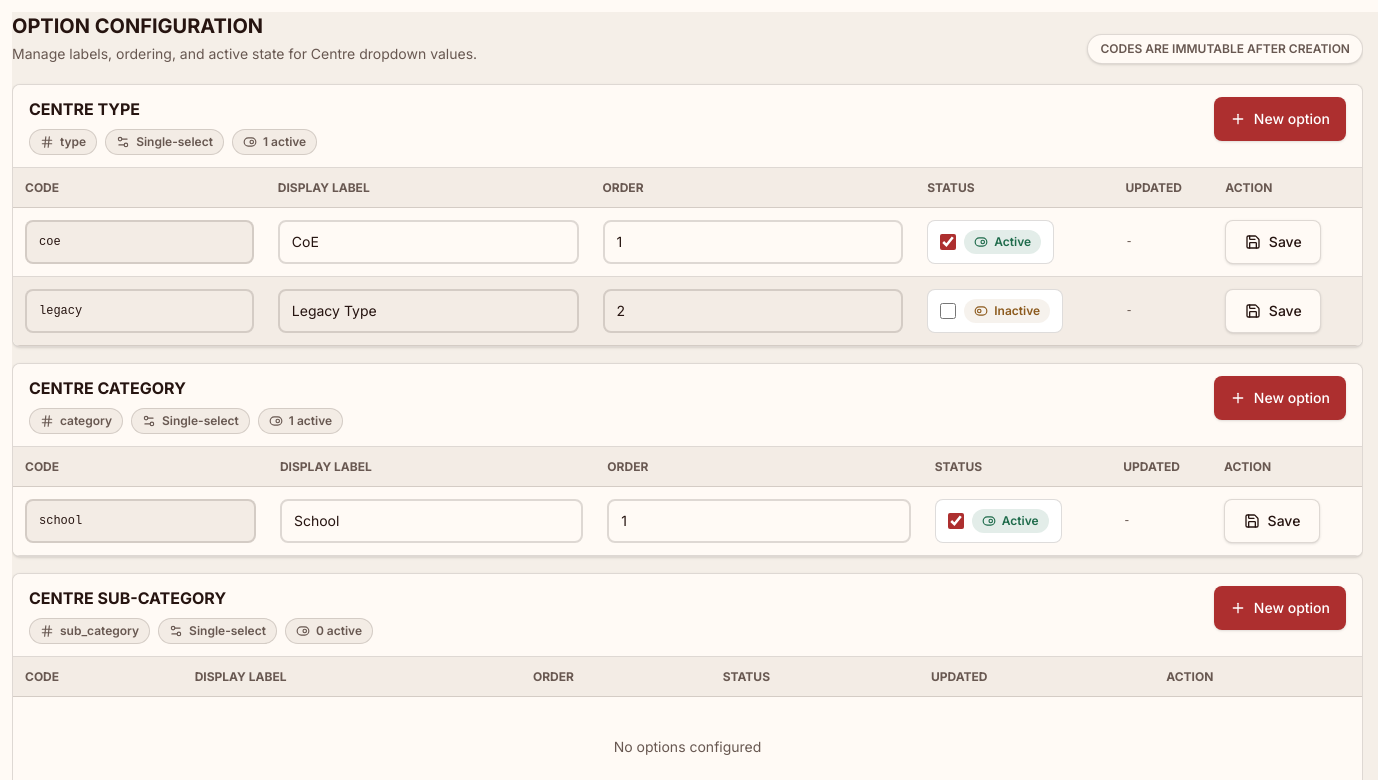
CentreOptionConfig › shows save errors for existing options without changing the visible option
Clear the field named "school label" at (432, 521), box [280,499,583,543]
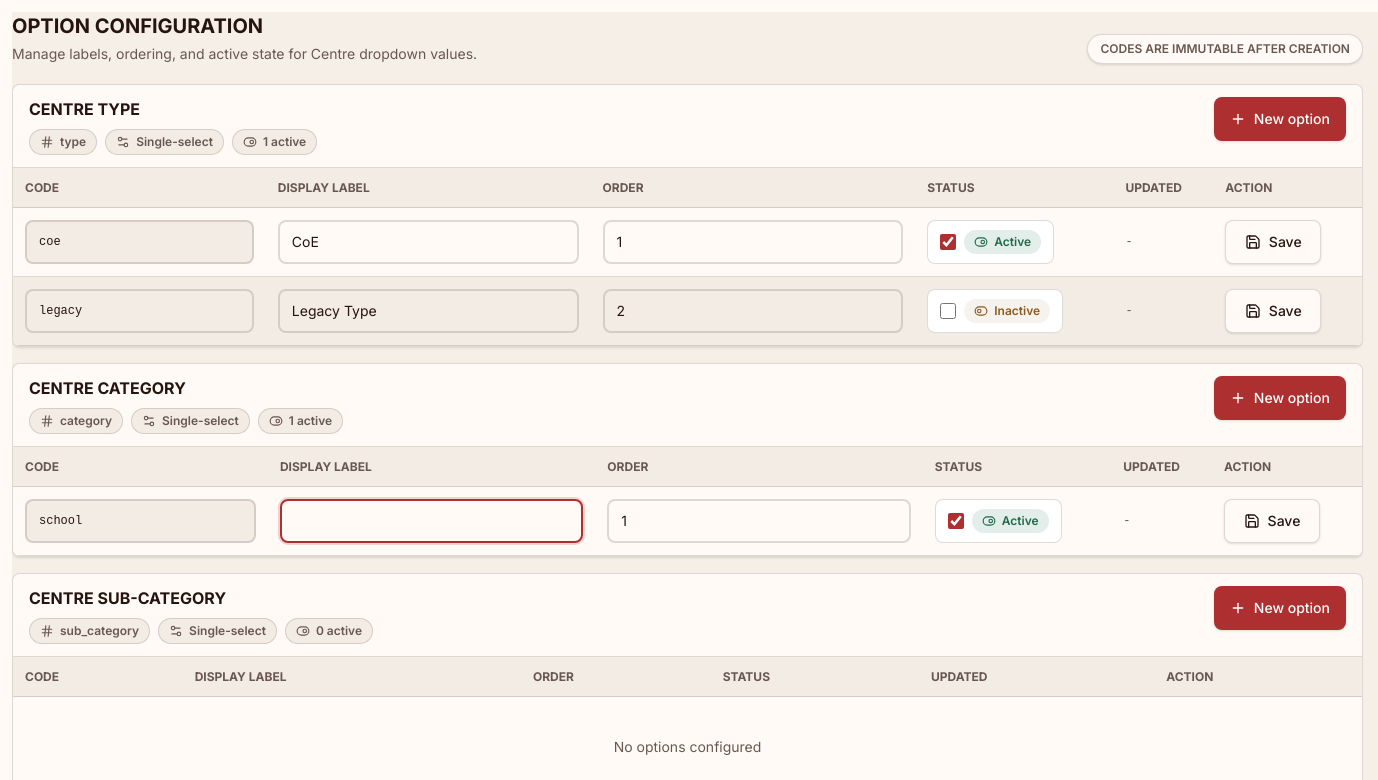
Click the 3rd button "Save" at (1272, 521), box [1224,499,1320,543]
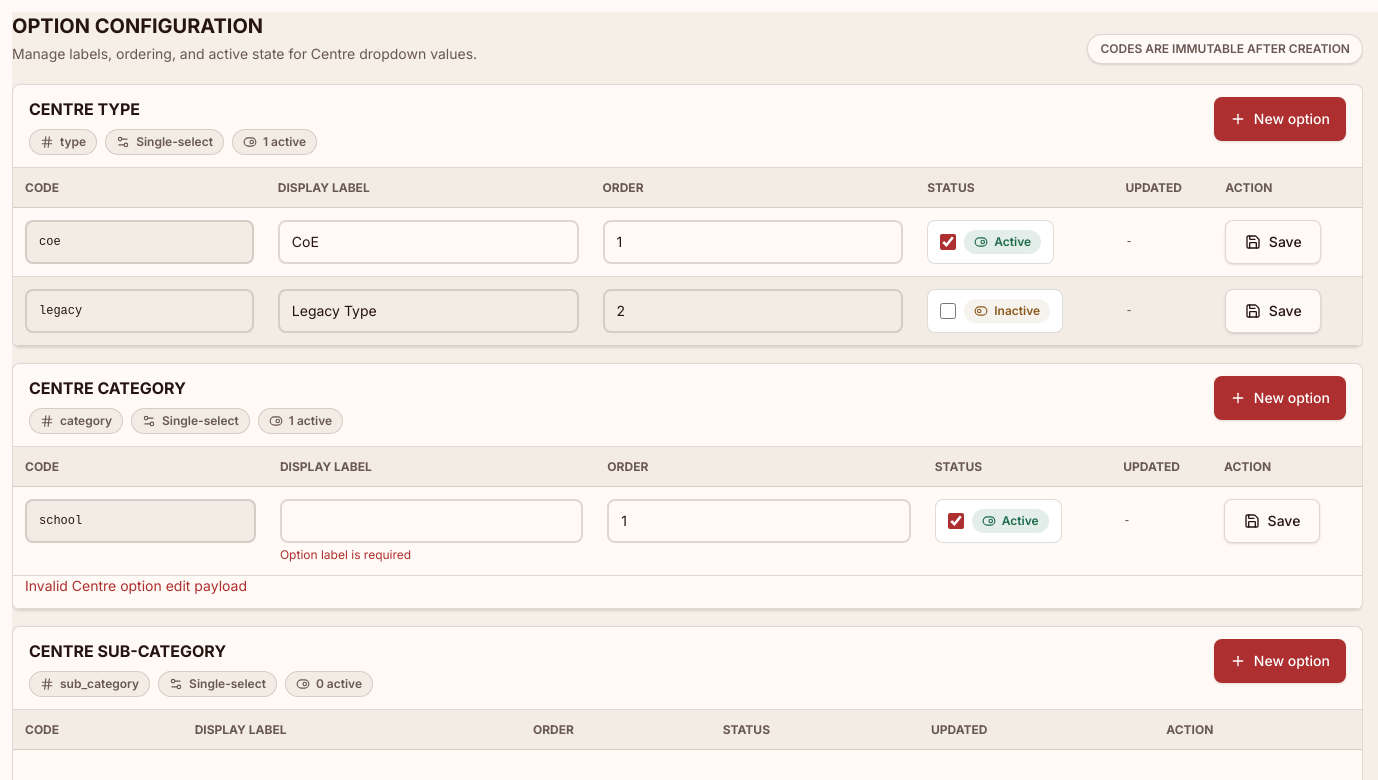
Expected: the field showing "school" is disabled, [25,499,256,543]
Expected: the text "Invalid Centre option edit payload" is shown, [13,576,1362,609]
Expected: the text "Option label is required" is shown, [280,547,411,562]
